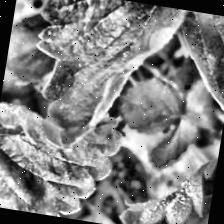Powdery Mildew Leaf: (18, 0, 195, 162), (0, 96, 126, 224), (117, 132, 220, 224)
